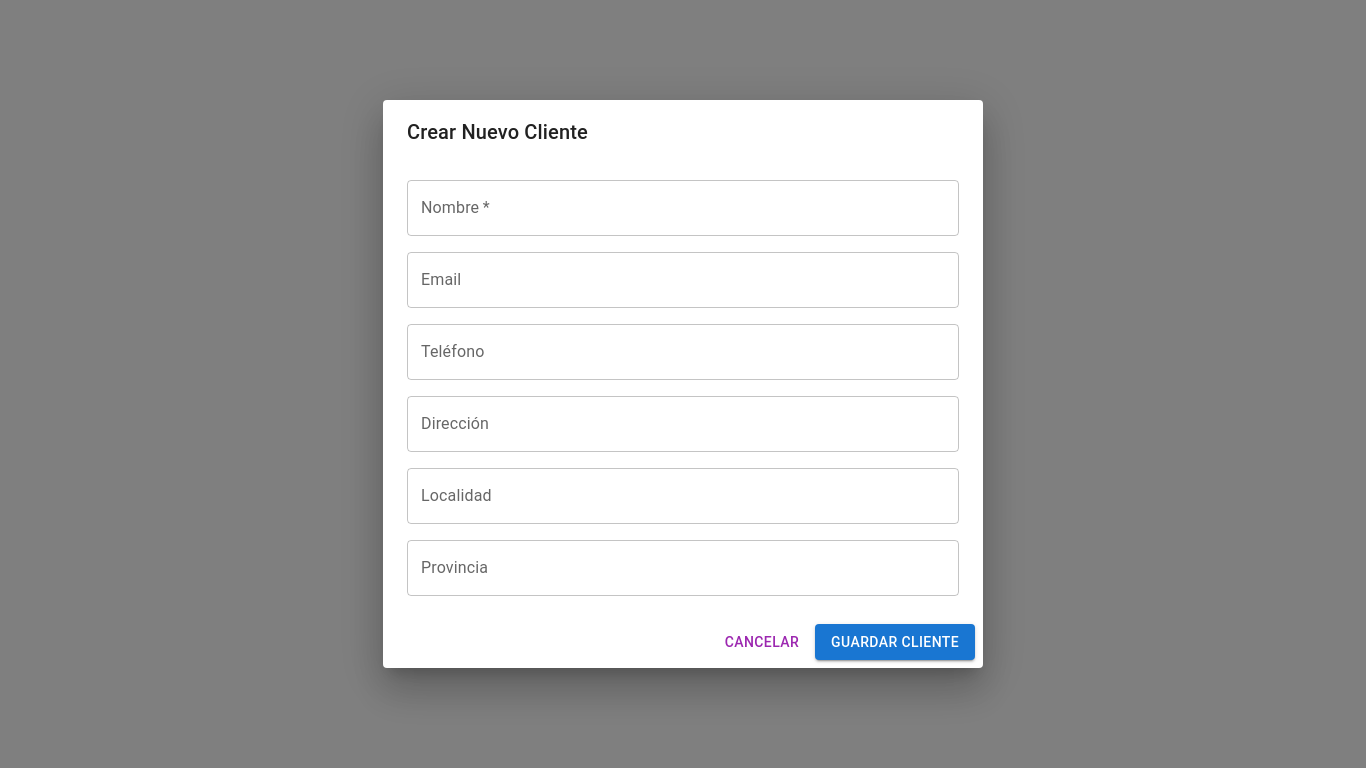
Test case: NuevoCliente › muestra éxito si la API responde correctamente
This screenshot has width=1366, height=768.
Type "Juan Pérez" into the field labelled "Nombre *" at {"x": 683, "y": 208}, box x1=407 y1=180 x2=959 y2=236
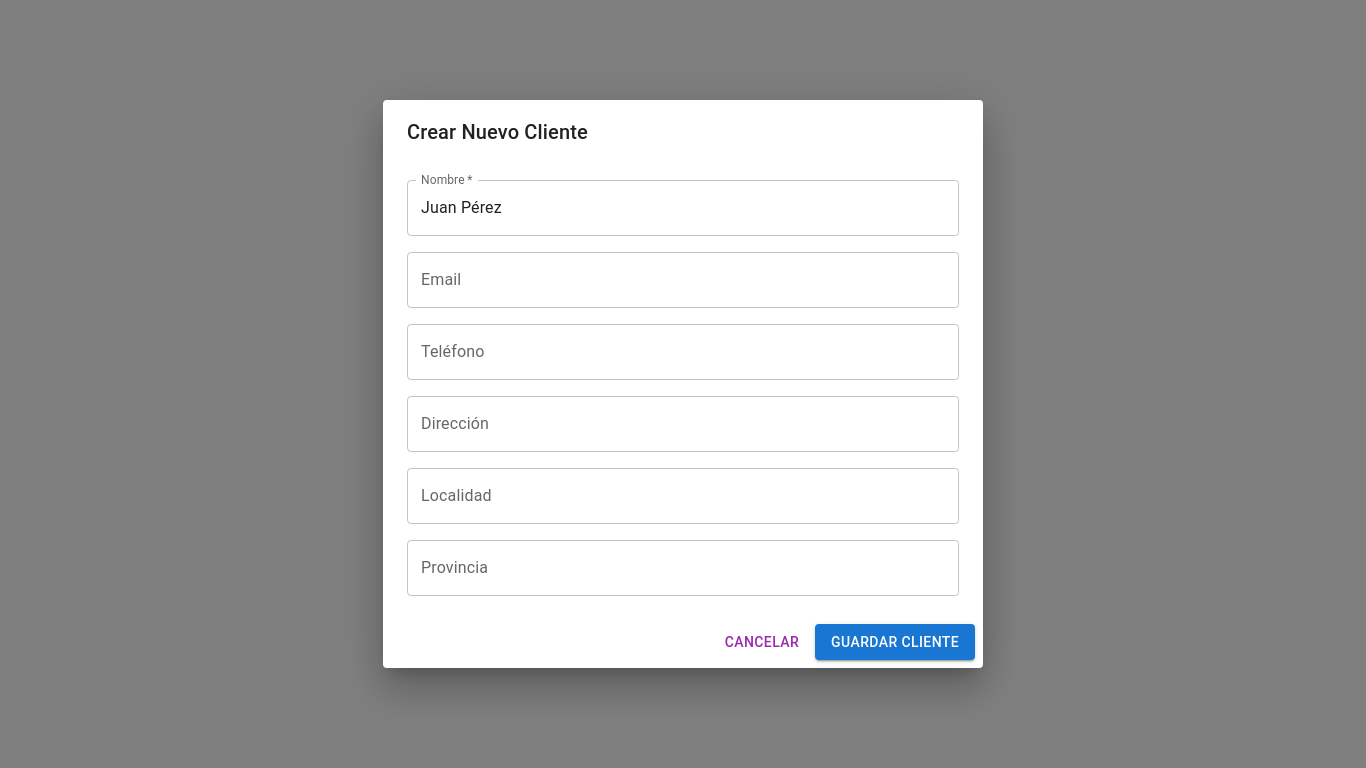
Click the button "Guardar Cliente" at {"x": 895, "y": 642}, box x1=815 y1=624 x2=975 y2=660
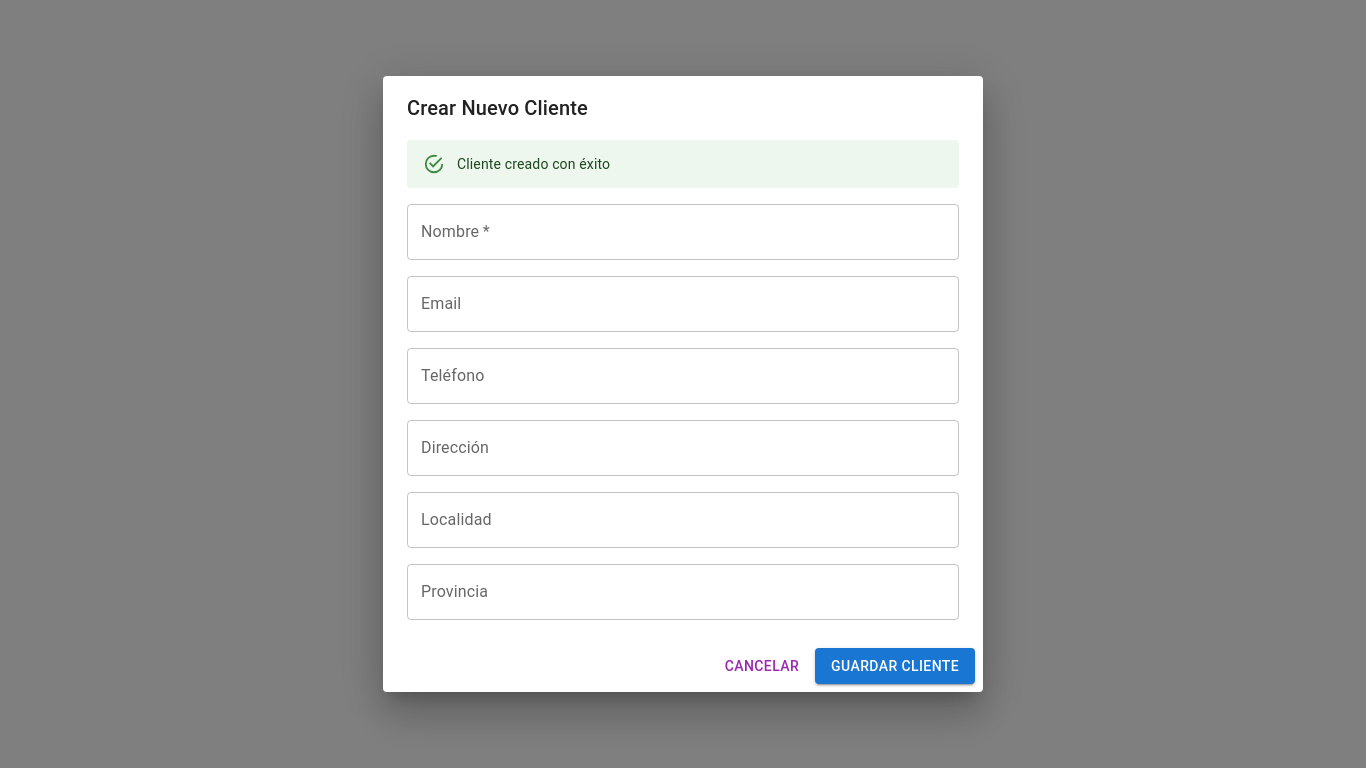
Expected: the text "Cliente creado con éxito" is shown, x1=457 y1=156 x2=610 y2=172
